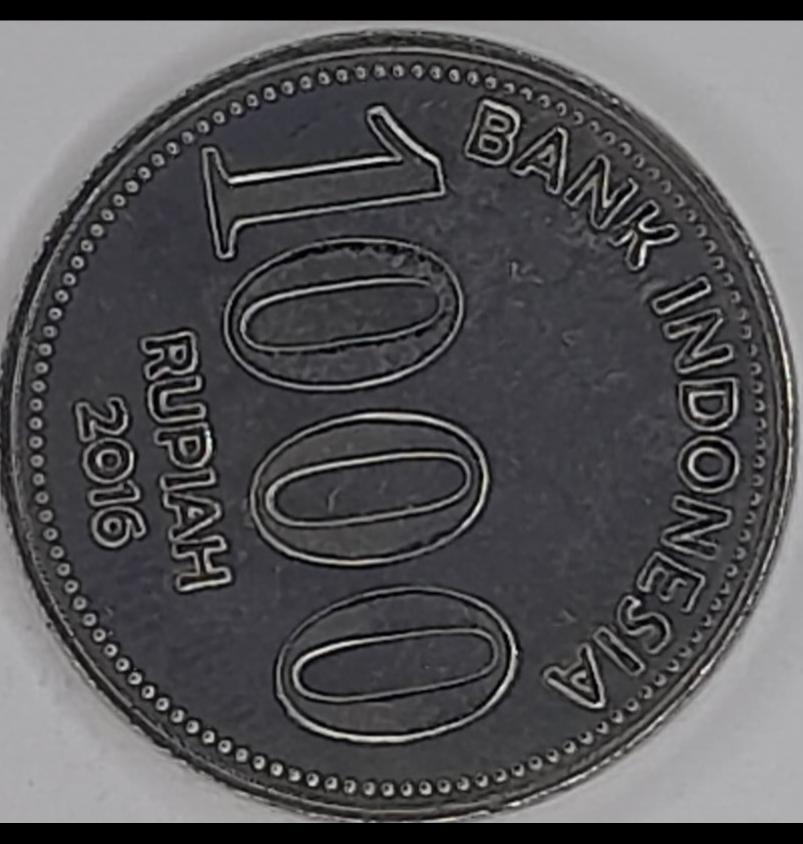coin_1000_e2016: (14, 17, 792, 844)
